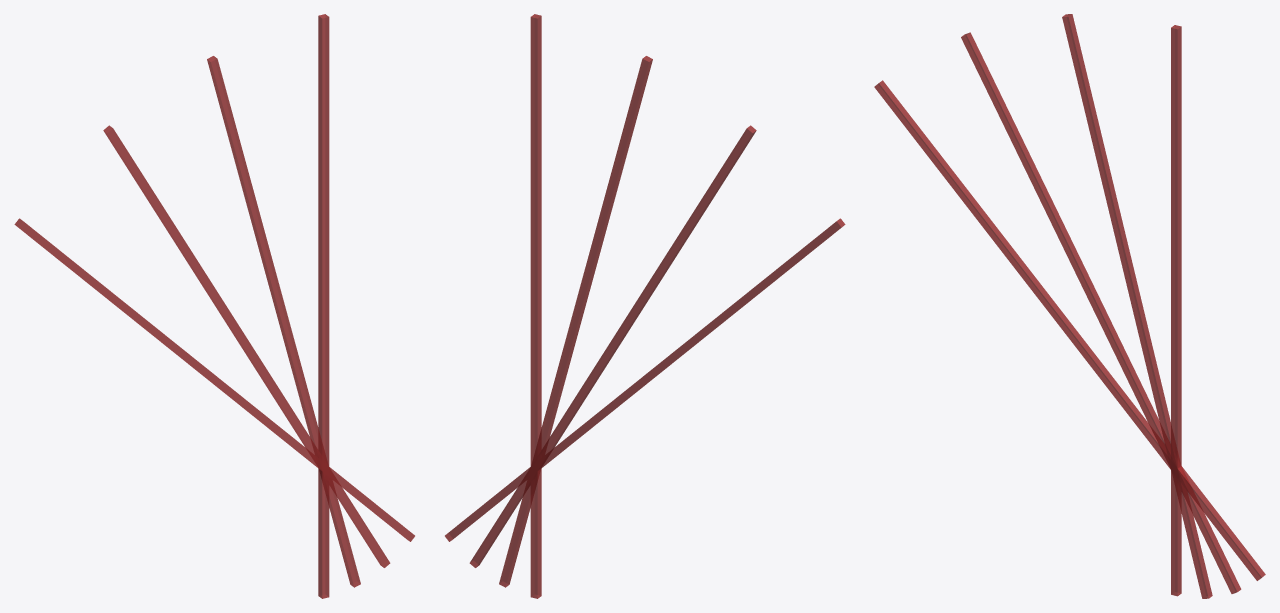
The model's file is Lvl_010.fbx.
The picture shows the model from 3 angles, left to right: view 1: azimuth 30°, elevation 25°; view 2: azimuth 150°, elevation 25°; view 3: azimuth 330°, elevation 25°; orthographic projection. The views are drawn at different scales.
Parts seen in each view (by area): view 1: pCube51, pCube50, pCube2, pCube52; view 2: pCube51, pCube50, pCube2, pCube52; view 3: pCube2, pCube52, pCube50, pCube51.
Part boxes in pixels (x1,y1,x2,y2): pCube51: [318, 14, 329, 598]; pCube50: [207, 56, 360, 587]; pCube2: [103, 125, 390, 567]; pCube52: [14, 218, 414, 541]; pCube51: [530, 14, 541, 598]; pCube50: [499, 56, 652, 587]; pCube2: [469, 125, 756, 567]; pCube52: [445, 218, 845, 541]; pCube2: [961, 32, 1241, 593]; pCube52: [874, 80, 1265, 580]; pCube50: [1062, 14, 1212, 598]; pCube51: [1171, 25, 1181, 596].
Bounding box in the file's own units: 1432 × 2000 × 25.
